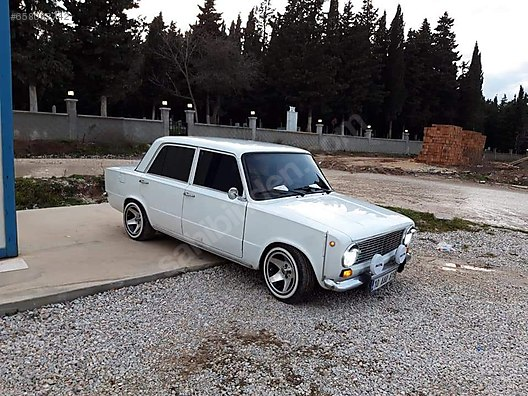murat: (100, 123, 422, 313)
